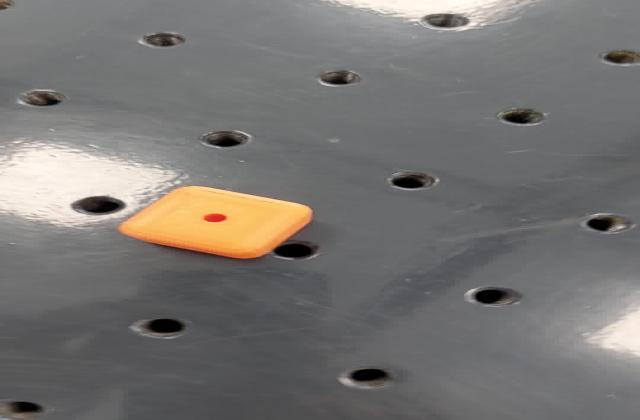cube: (111, 184, 319, 262)
